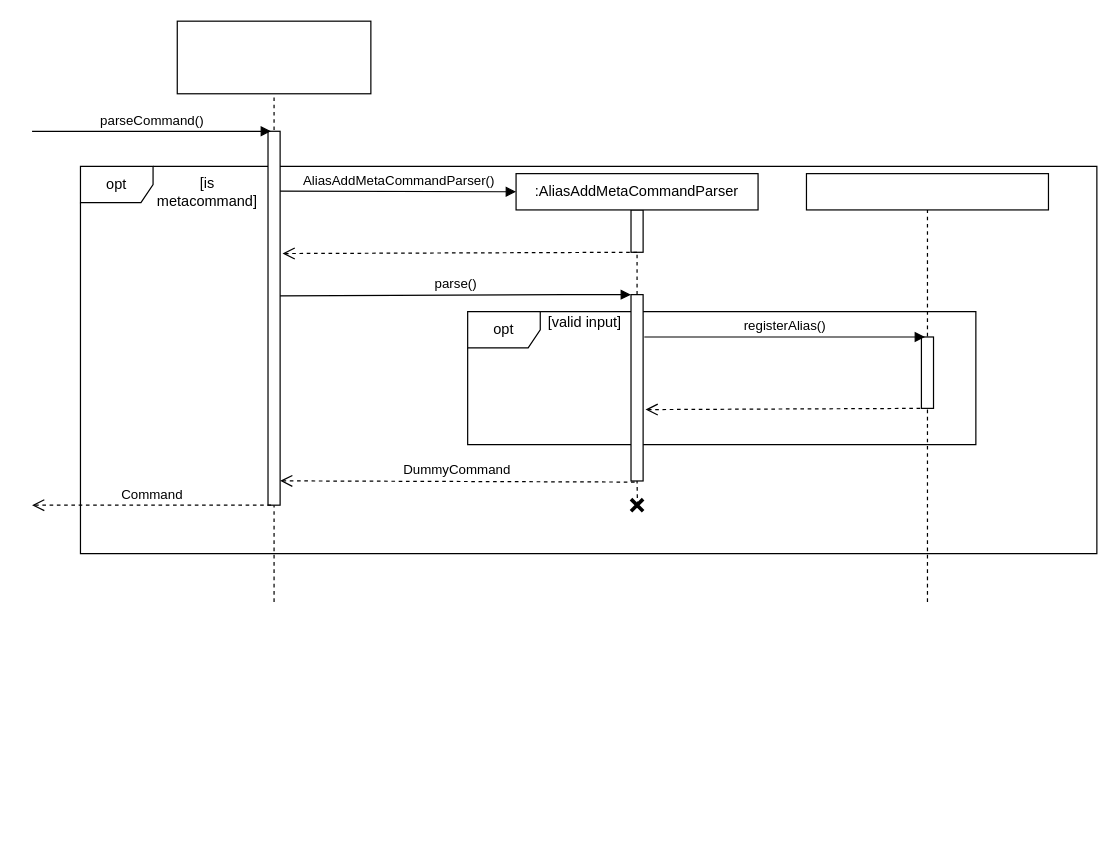
The diagram is 1118 pixels wide and 841 high, and some of its shapes have lost their labels. Here are the shapes that lost their labels. From the top down, the centre of each, then its label:
the point at 273,57: :SourceManagerParser
the point at 926,191: :AliasManager
